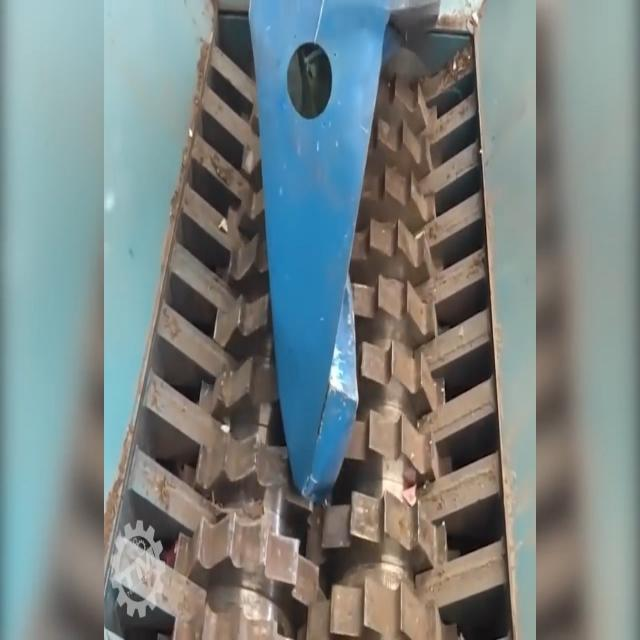Broyeur: (101, 0, 527, 640)
